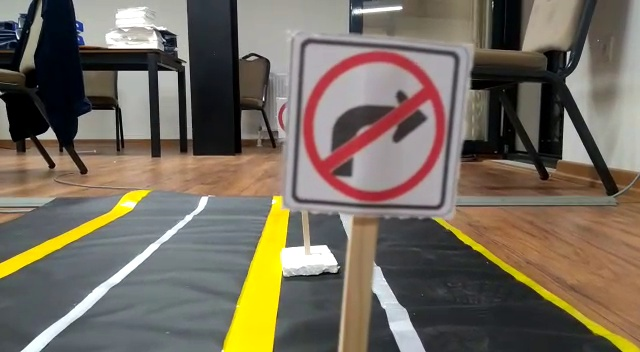saga_donulmez: (298, 42, 450, 208)
